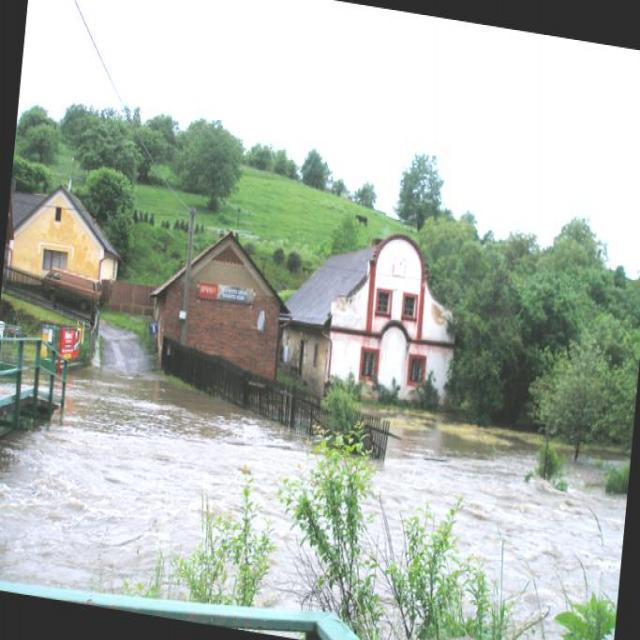flood: (0, 340, 623, 639)
